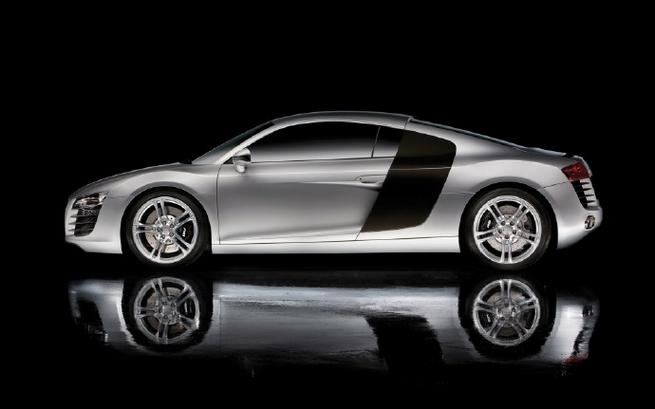汽车: (52, 102, 605, 281)
